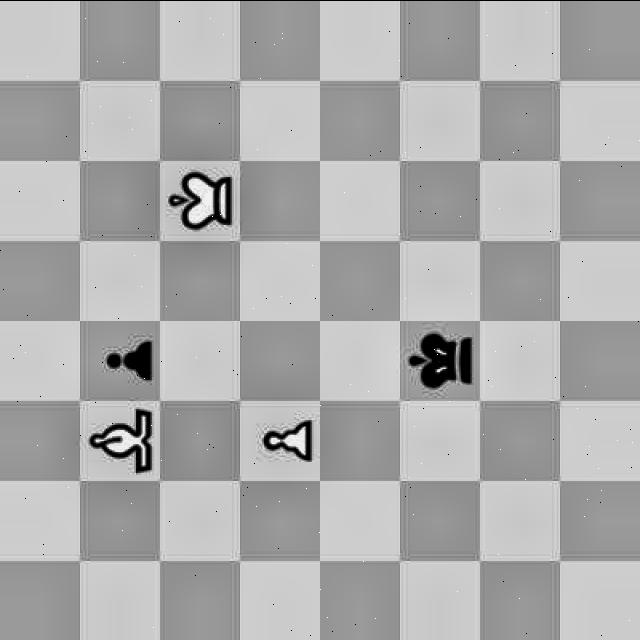black king: (402, 317, 479, 402)
black pawn: (76, 323, 160, 399)
white bishop: (84, 410, 158, 474)
white king: (162, 164, 236, 238)
white pawn: (248, 402, 322, 472)
